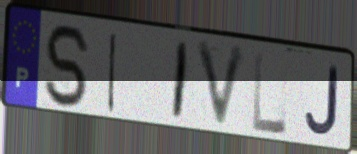I: (169, 39, 192, 124), (105, 30, 120, 115)
J: (303, 64, 341, 139)
L: (251, 50, 289, 138)
S: (42, 22, 93, 112)
V: (193, 39, 250, 135)
